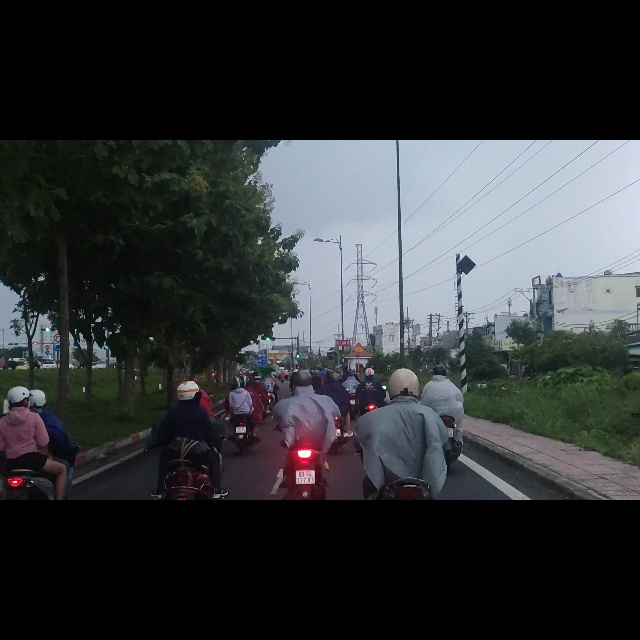bien_cam: (353, 359, 364, 377)
